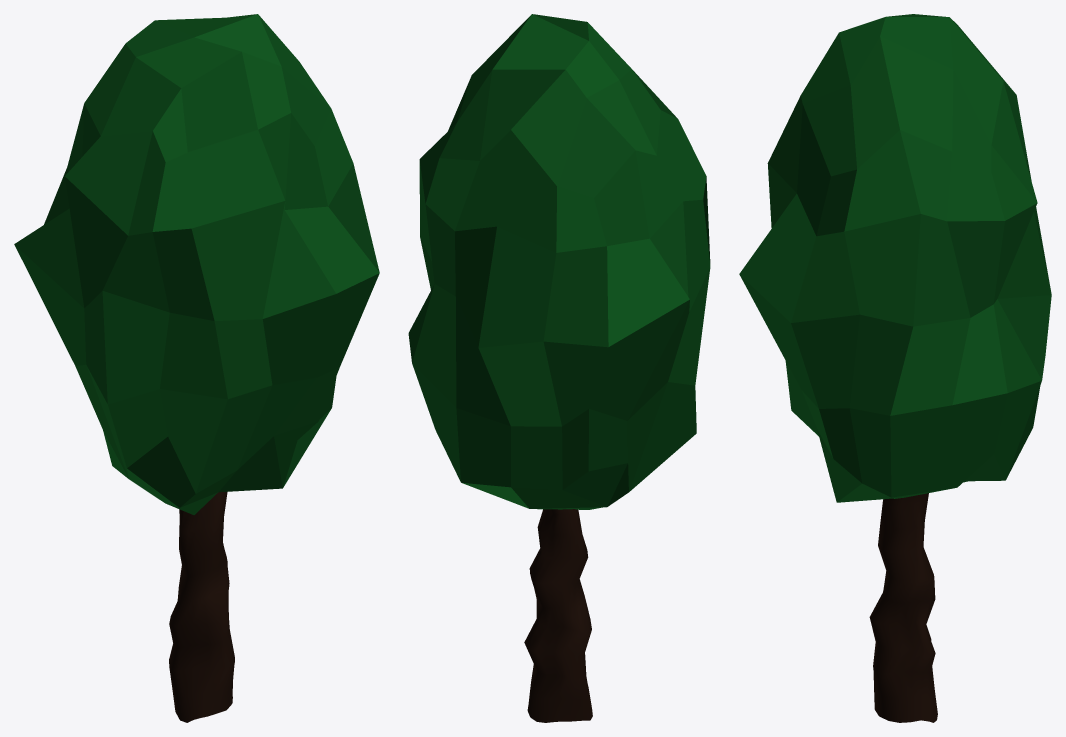
The model's file is forest_tree1.FBX.
3 views of the same model, side by side, from view 1: azimuth 30°, elevation 25°; view 2: azimuth 150°, elevation 25°; view 3: azimuth 270°, elevation 25° (orthographic). The views are drawn at different scales.
Parts seen in each view (by area): view 1: Box001, Cylinder001; view 2: Box001, Cylinder001; view 3: Box001, Cylinder001.
Boxes of the visible parts, bbox=[...] form: Box001: bbox=[14, 14, 379, 514]; Cylinder001: bbox=[169, 491, 234, 722]; Box001: bbox=[408, 14, 710, 509]; Cylinder001: bbox=[524, 509, 592, 722]; Box001: bbox=[739, 14, 1051, 502]; Cylinder001: bbox=[869, 493, 937, 722].
Size of the model in its own units: 14.14 by 31.37 by 12.62.
